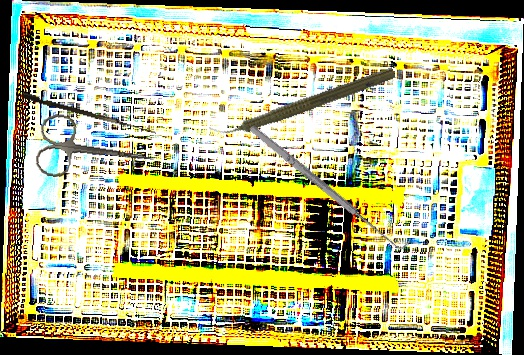Handpiece: (207, 59, 398, 148)
Hook Surgical: (245, 117, 413, 257), (21, 92, 158, 134)
Iris Scissors: (33, 111, 160, 192)
